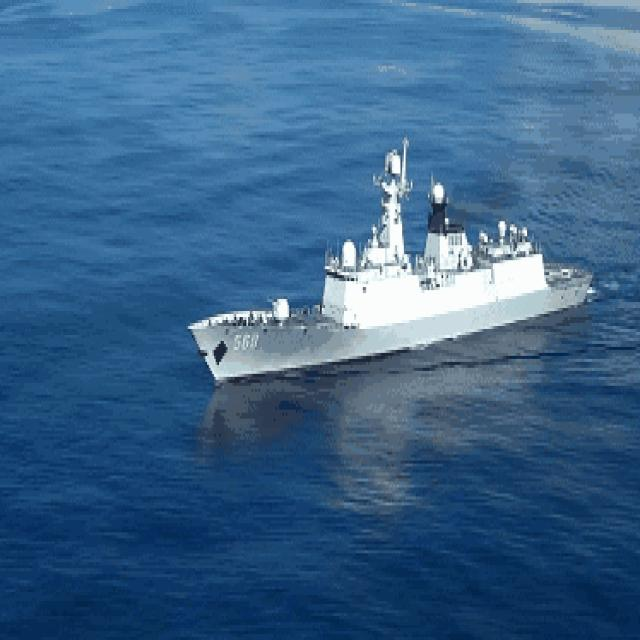navalvessels: (195, 131, 602, 425)
